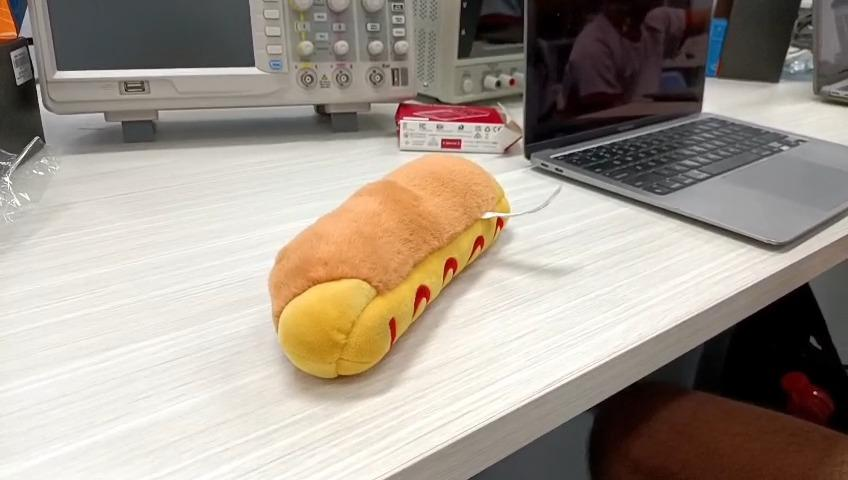hotdog: (269, 155, 513, 381)
